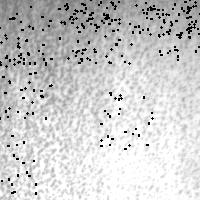pitted_surface: (1, 1, 200, 198), (71, 4, 130, 62), (59, 1, 118, 57), (0, 57, 50, 117), (100, 92, 151, 148), (0, 6, 48, 64), (49, 0, 108, 41), (159, 7, 200, 59), (0, 135, 35, 192), (147, 0, 200, 36), (132, 0, 189, 31), (161, 0, 200, 33)
